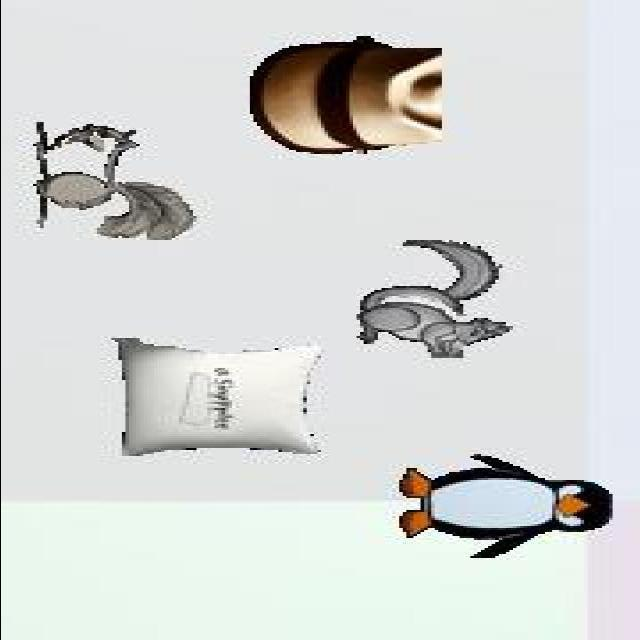Other Objects: (108, 336, 328, 456), (244, 36, 447, 156)
